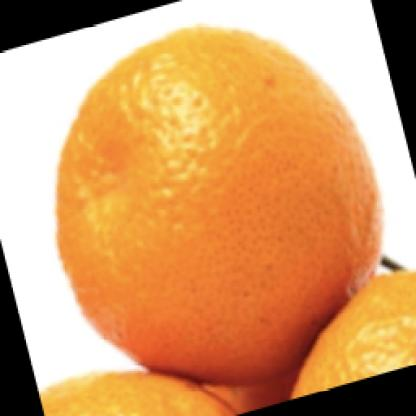fresh: (55, 27, 381, 381)
